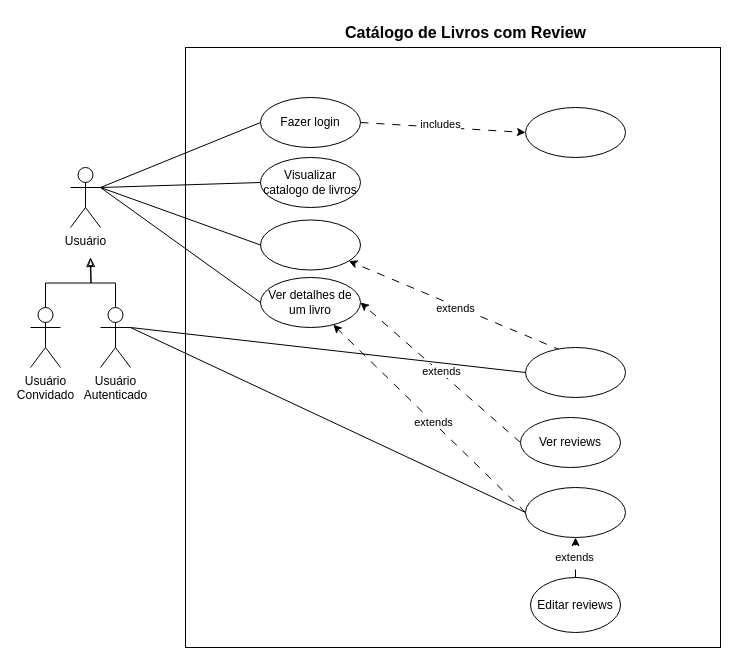
The diagram is 738 pixels wide and 665 high, and some of its shapes have lost their labels. Here are the shapes that lost their labels. From the top down, the centre of each, then its label:
the point at 575,132: Verificar senha
the point at 310,244: Pesquisar livros
the point at 575,372: Adicionar livro
the point at 575,512: Criar reviews
